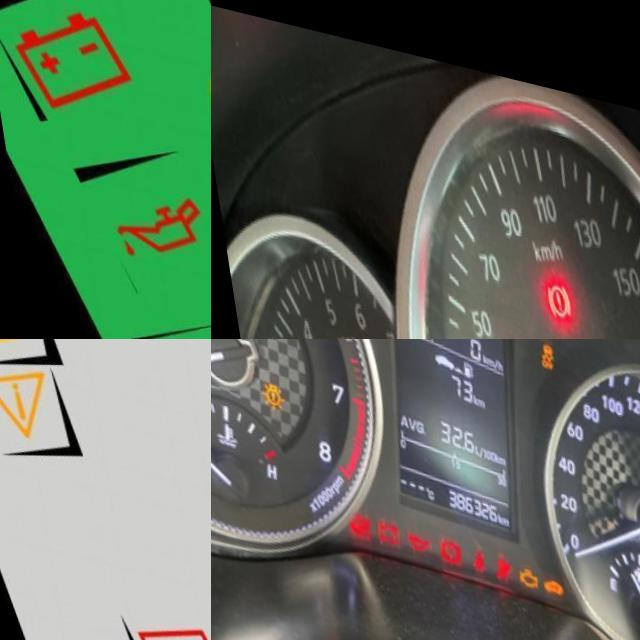Electronic Power Steering: (328, 499, 361, 532)
